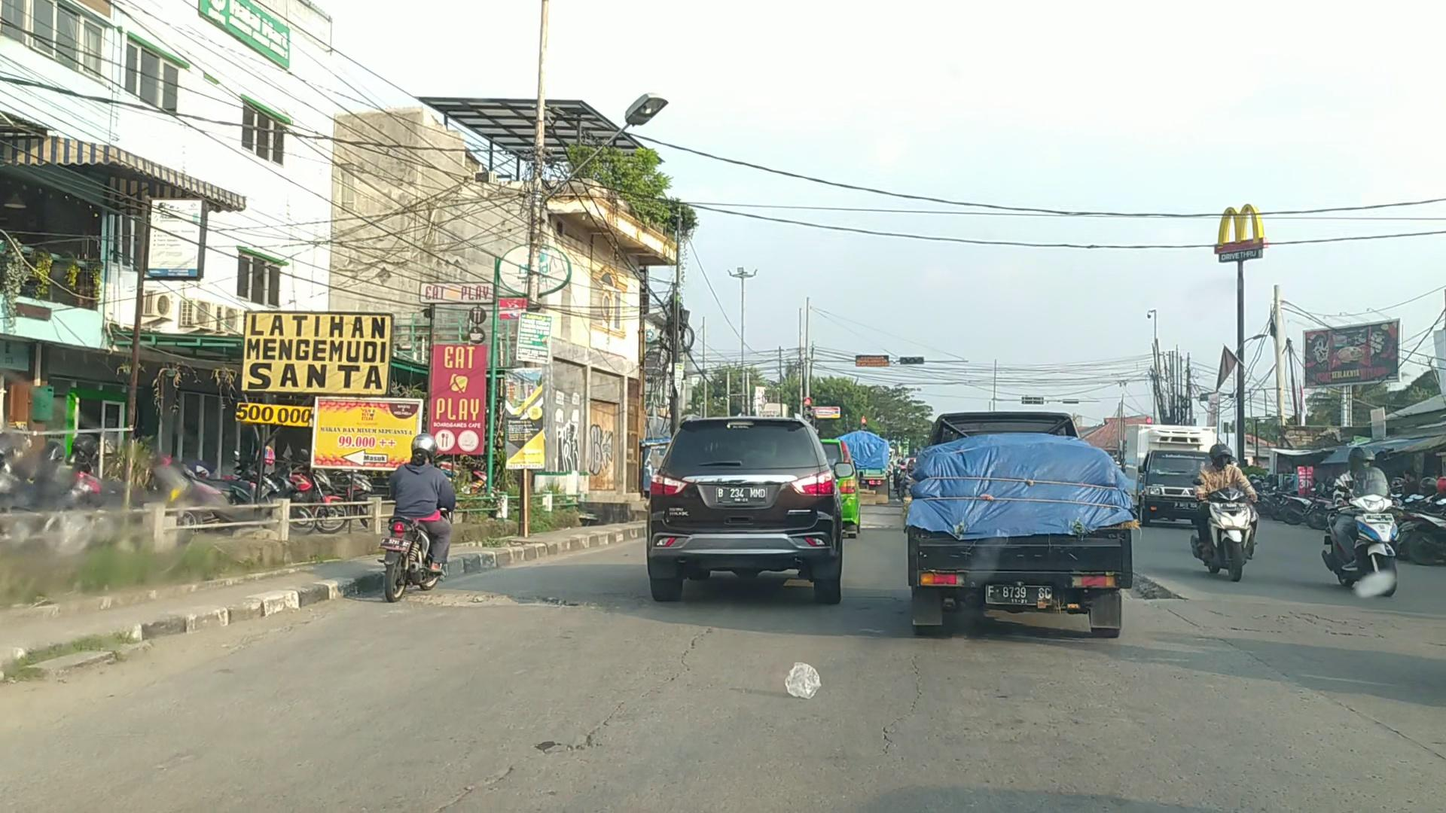pothole: (421, 593, 578, 607), (1124, 571, 1180, 600)
